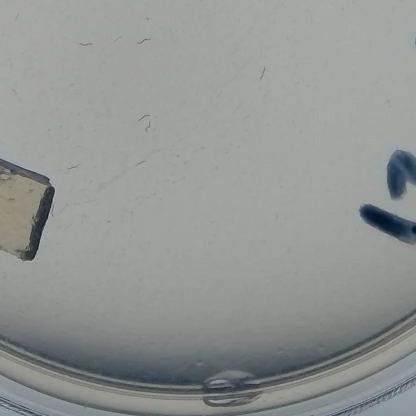worm: (254, 63, 270, 84), (131, 35, 156, 47), (111, 30, 125, 45), (132, 158, 151, 169), (65, 160, 81, 173), (73, 39, 95, 48), (137, 109, 151, 122), (139, 121, 160, 129)
